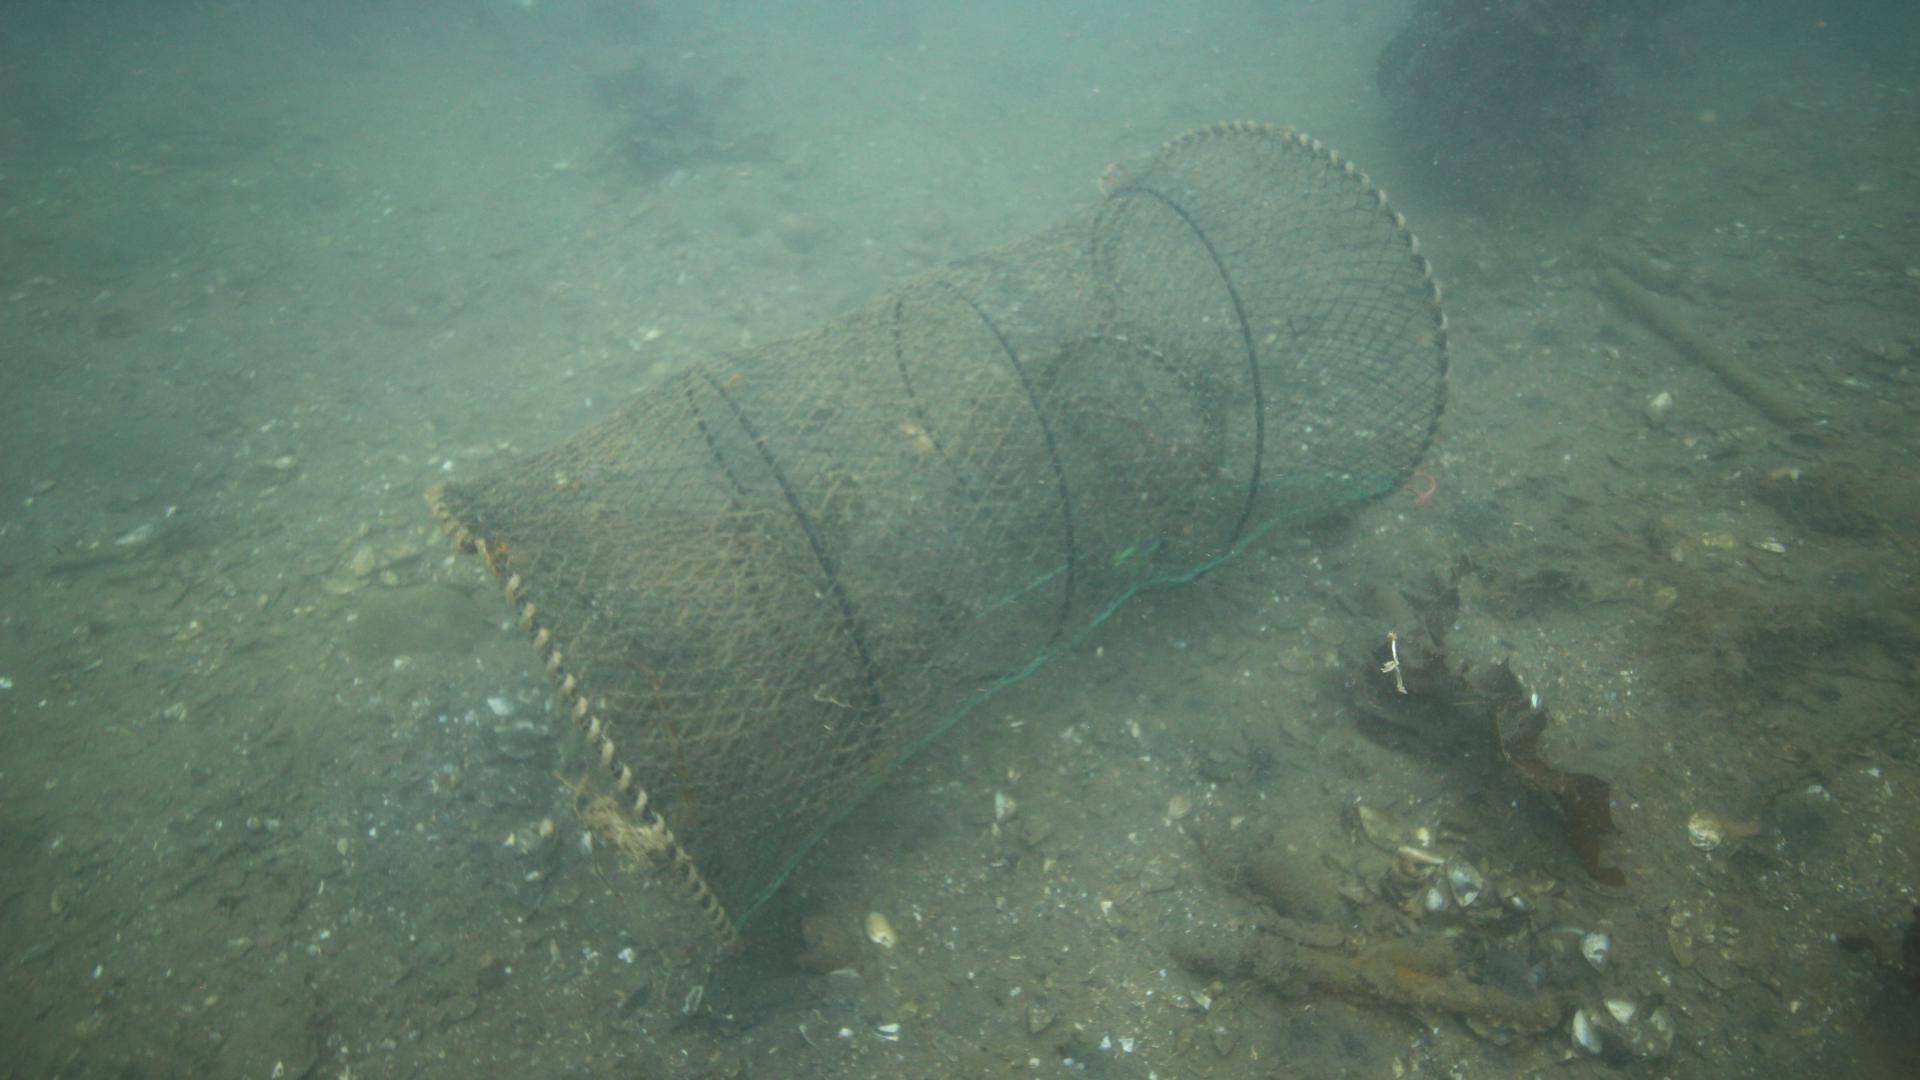spring fish trap: (417, 123, 1443, 959)
